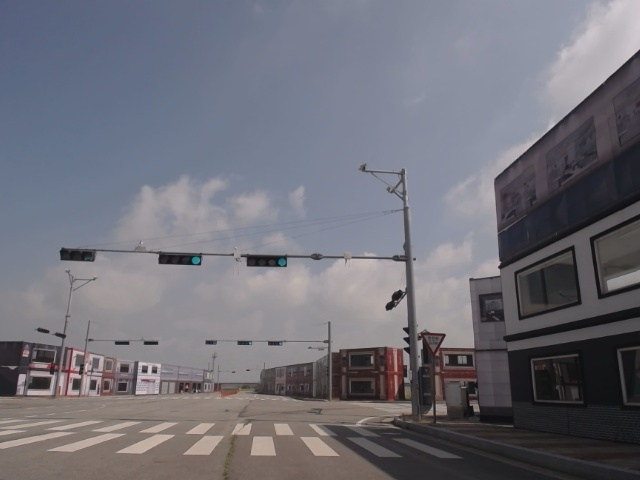straight_green_4: (158, 252, 202, 268), (247, 255, 287, 268)
